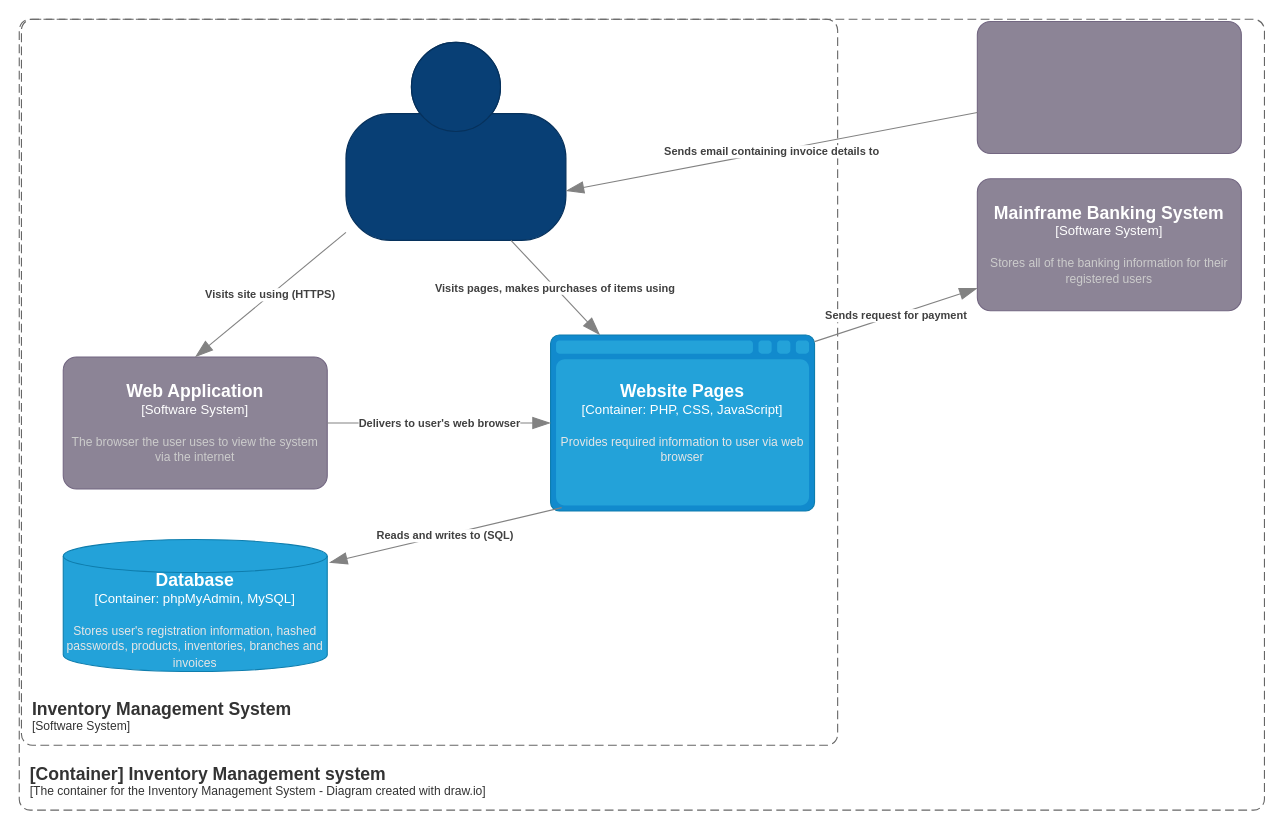
This 1284x829 diagram has some shape labels left out. The centre of each missing label's shape, as x and y in pixels:
"Email System [Software System] The email system the user uses" goes at [1108,86].
"Registered User [Person] A user registered to the system" goes at [455,140].
